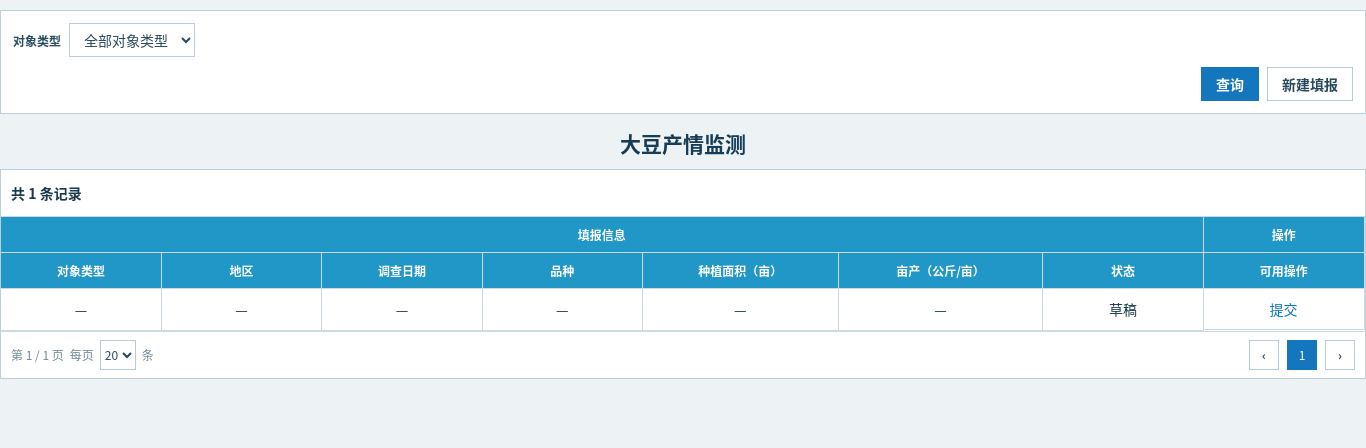
ProductionMonitoringPage › retries an action independently and clears its action-only error
Click the button "提交".
click(1284, 309)  # box [1264,298,1304,320]
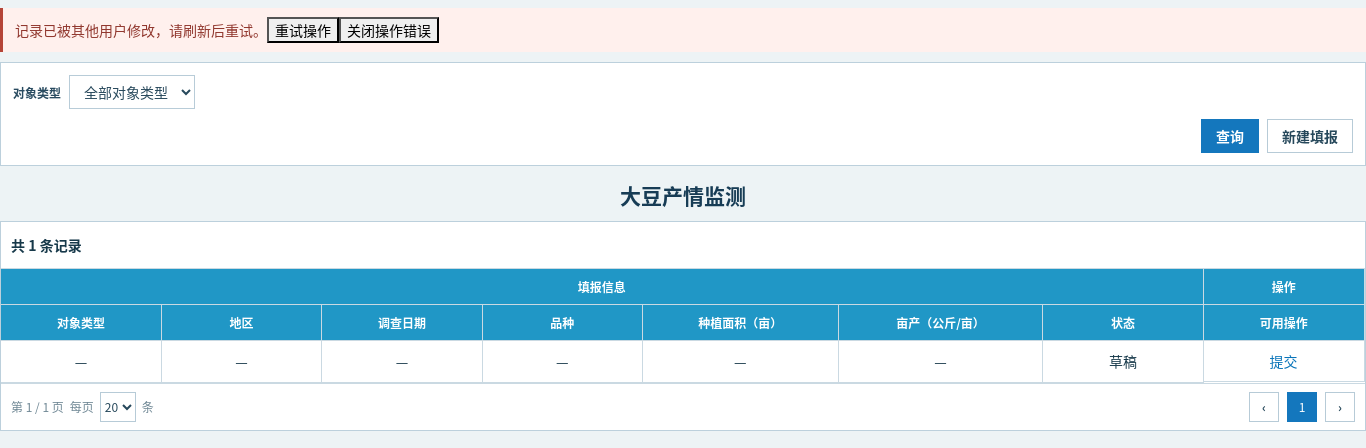
Check: the button "提交" is enabled, box [1264,350,1304,372]
Click the button "重试操作".
click(303, 30)  # box [267,17,339,43]
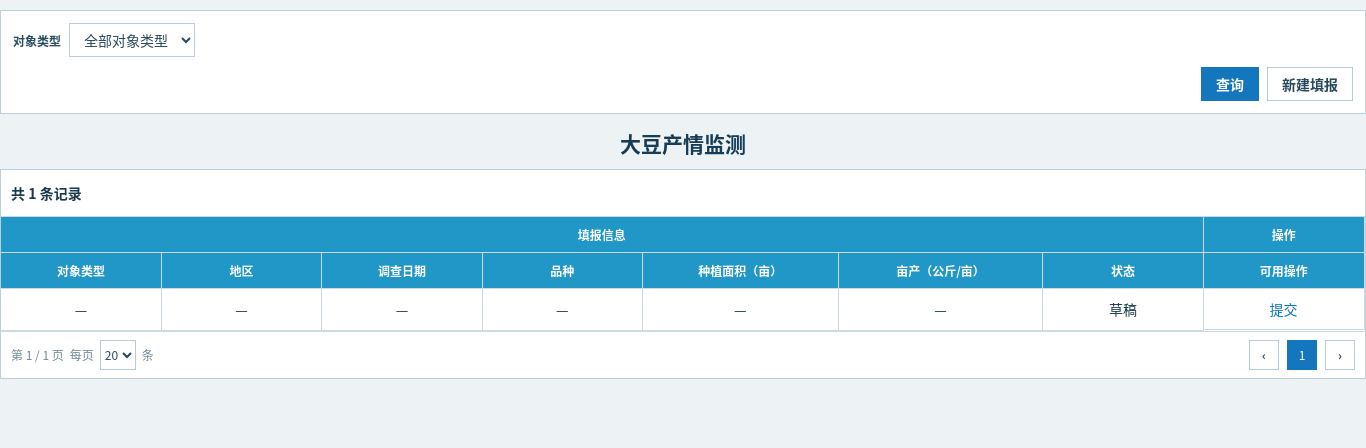
Check: the message "记录已被其他用户修改，请刷新后重试。 重试操作 关闭操作错误" is gone
